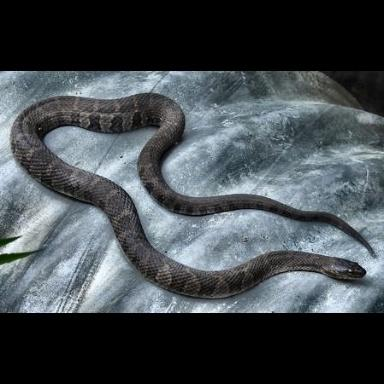snake: (5, 86, 380, 307)
